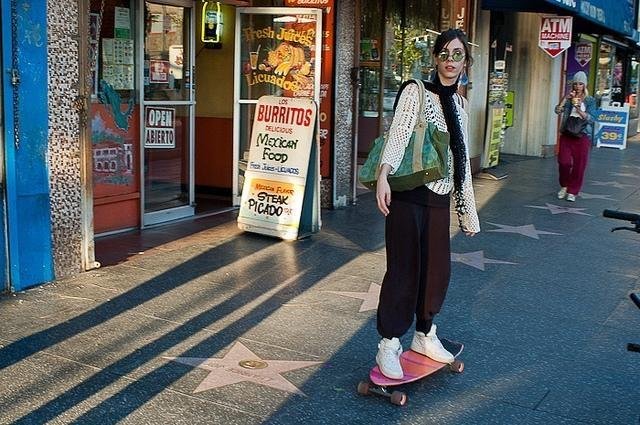bicycle: (602, 206, 640, 352)
